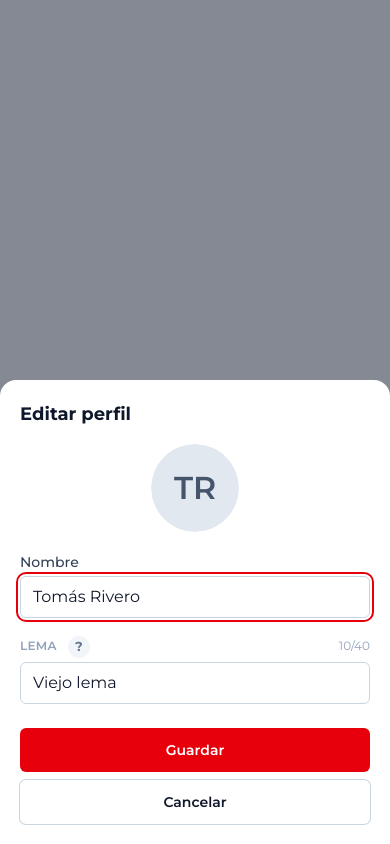
EditProfileModal › el "?" de Lema explica para qué sirve
What coordinates should you click on to do the following:
click the button named "¿Qué es el lema?"
I would click on:
 (79, 646)
Its box is [57,624,101,668].
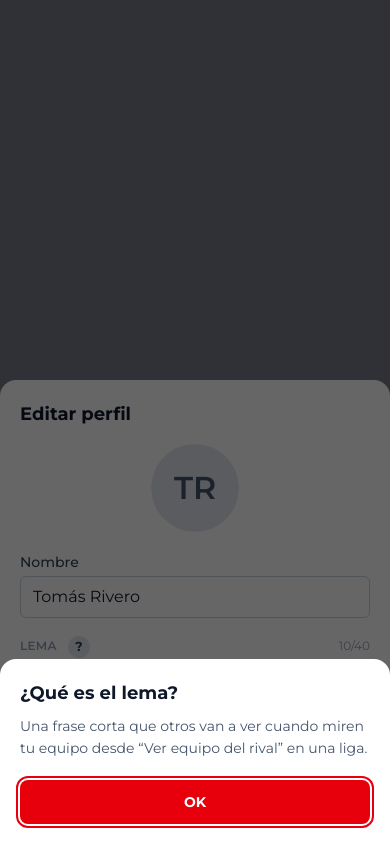
Now the text "Ver equipo del rival" is shown, box [20,716,367,757]
